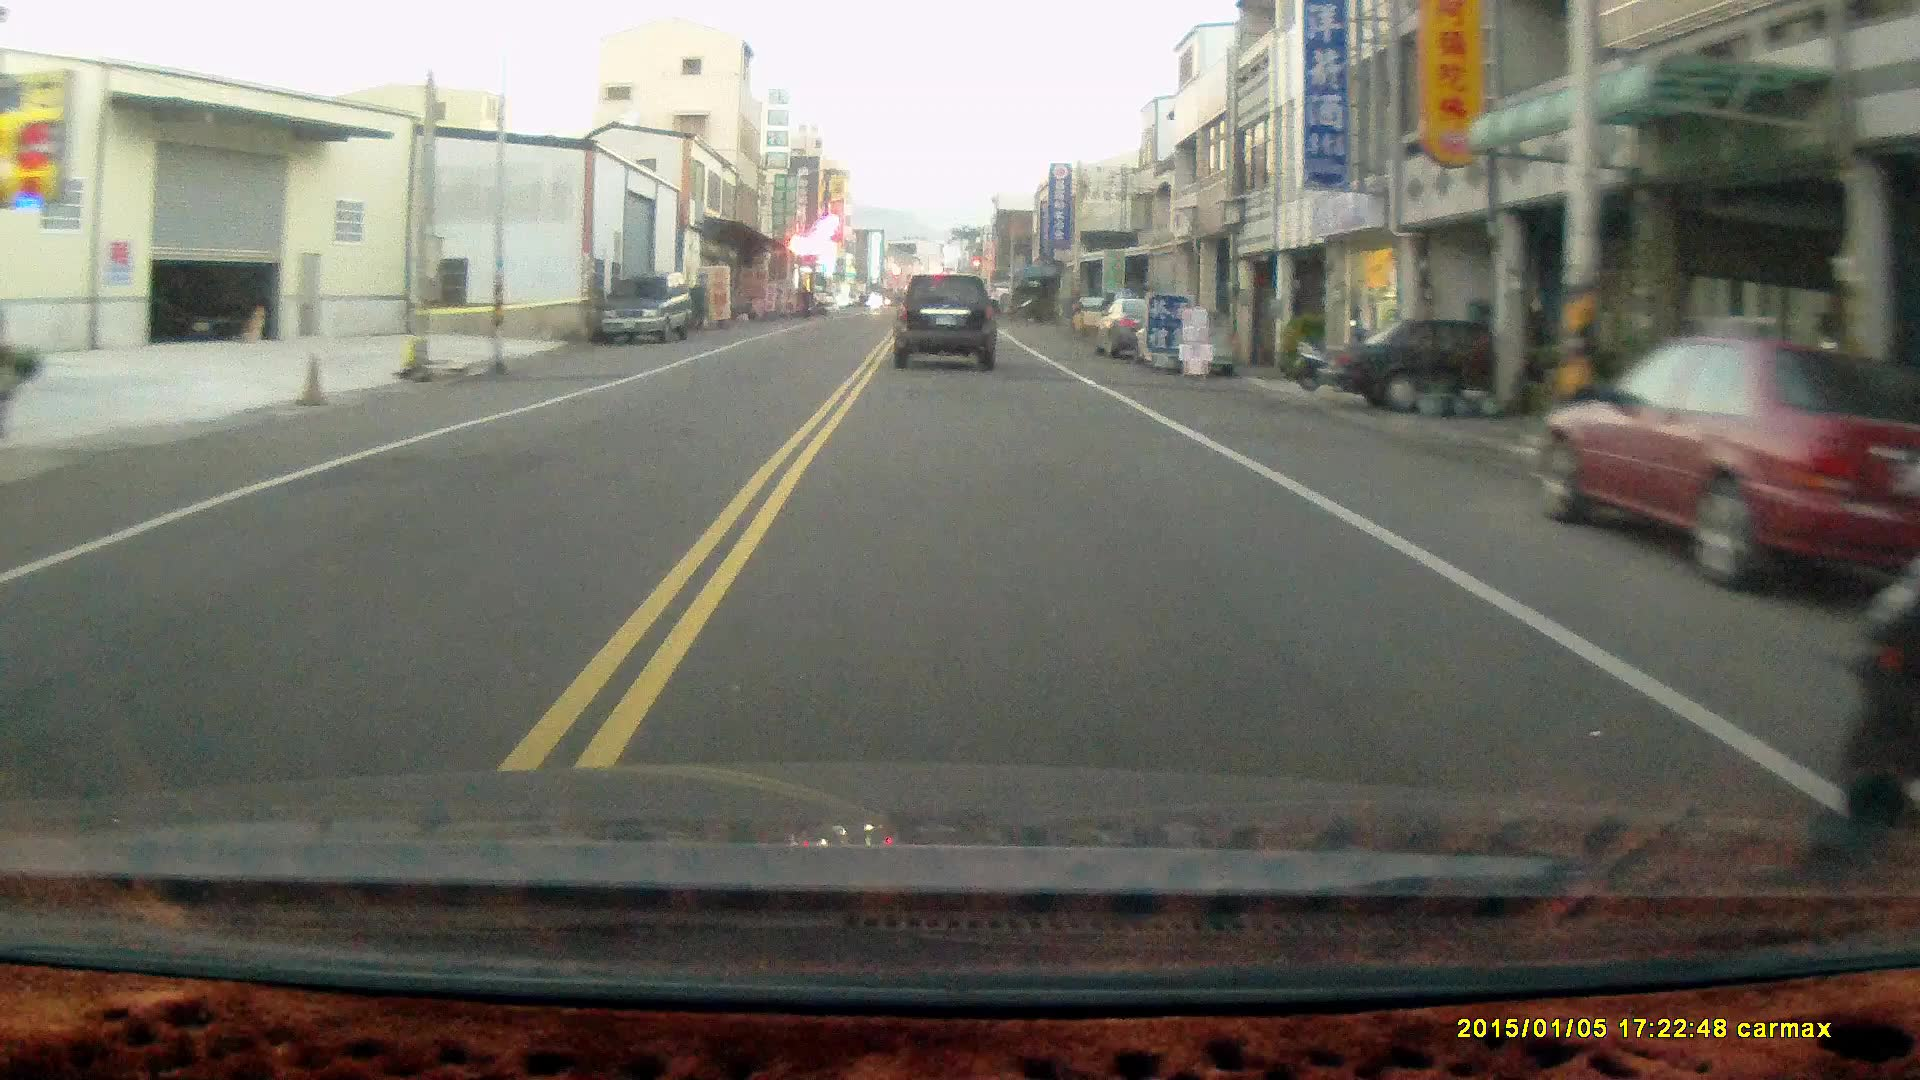vehicle: (1536, 335, 1920, 597), (1303, 315, 1596, 404), (890, 276, 1000, 376), (597, 272, 698, 352)
